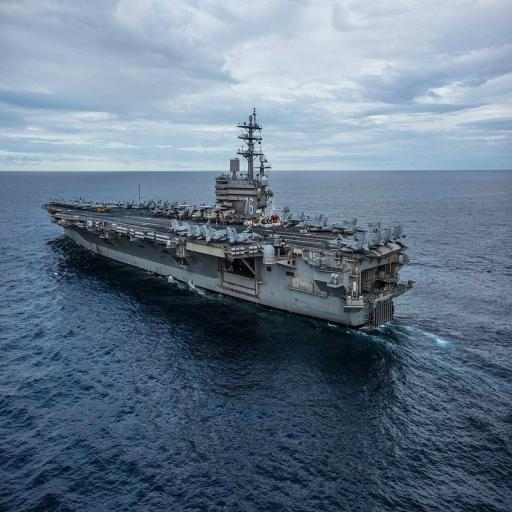Portanaves: (41, 105, 417, 351)
